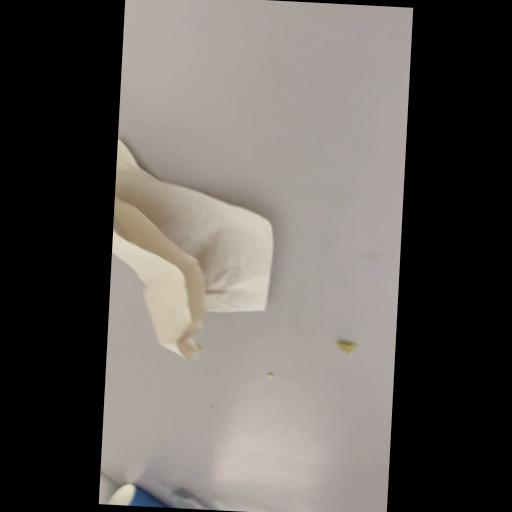napkin: (106, 126, 278, 366)
